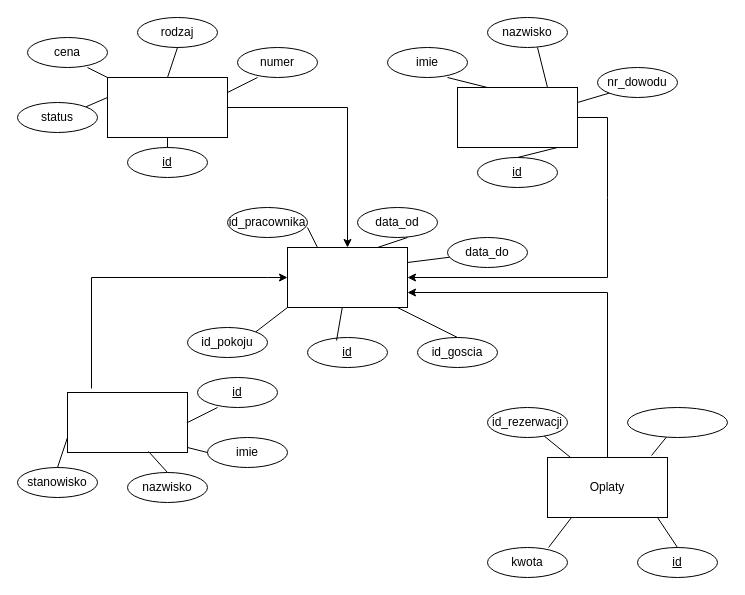
Image size: 745x595. Some labels were removed from this diagram. The centre of each missing label's shape, as x and y in pixels:
"Goscie" belongs at point 517,117.
"Pokoje" belongs at point 167,107.
"Pracownicy" belongs at point 127,422.
"Rezerwacje" belongs at point 347,277.
"status_platnosci" belongs at point 677,422.
